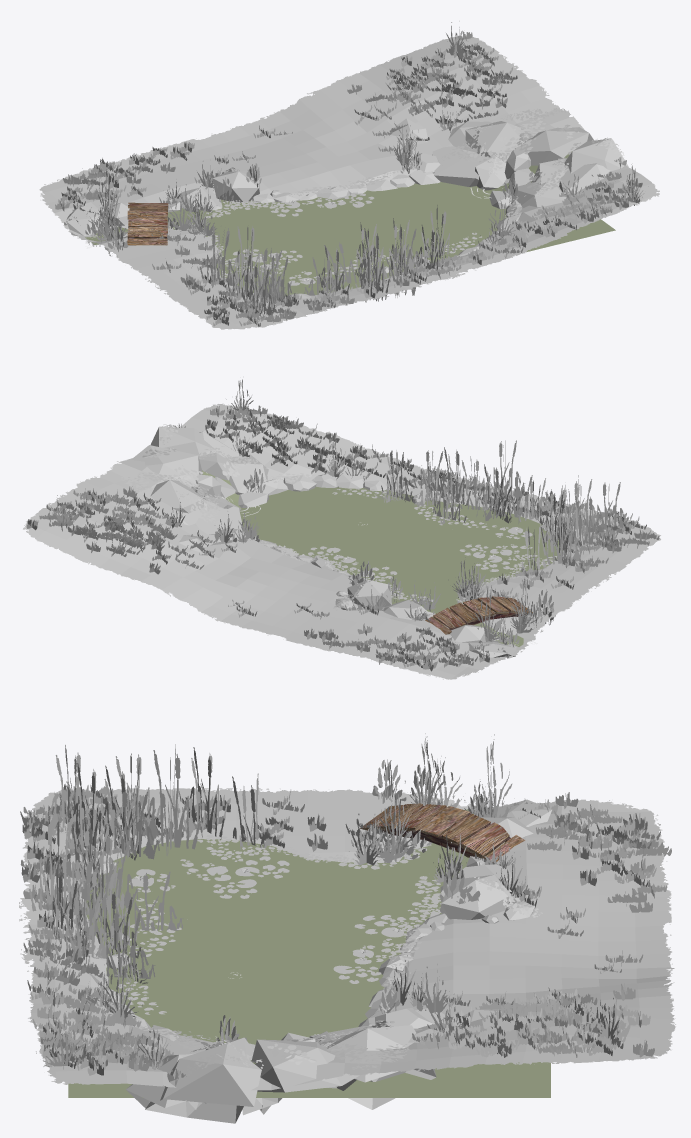
The model's file is 2020_08_05 pond-3-clean.fbx.
The picture shows the model from 3 angles, top to bottom: view 1: azimuth 30°, elevation 25°; view 2: azimuth 150°, elevation 25°; view 3: azimuth 270°, elevation 25°; orthographic projection. The views are drawn at different scales.
Visible parts, largest first — view 1: Plane.002, Plane.003, Icosphere.004, Icosphere.005, Icosphere.010, Icosphere.012, Icosphere.018, Icosphere.001, Icosphere.011, Plane.056, Icosphere, Icosphere.022 (+14 smaller); view 2: Plane.002, Plane.003, Icosphere.004, Icosphere.012, Icosphere.010, Icosphere.005, Icosphere.018, Icosphere.001, Plane.084, Plane.037, Plane.085, Plane.059 (+12 smaller); view 3: Plane.002, Plane.003, Icosphere.012, Icosphere.004, Icosphere.010, Icosphere.018, Plane.084, Plane.056, Plane.085, Plane.083, Plane.090, Plane.059 (+29 smaller).
Part boxes in pixels (x1,y1,x2,y2): Plane.002: [39, 34, 659, 329]; Plane.003: [167, 182, 615, 296]; Icosphere.004: [511, 127, 593, 165]; Icosphere.005: [432, 146, 497, 186]; Icosphere.010: [465, 121, 524, 162]; Icosphere.012: [564, 138, 629, 173]; Icosphere.018: [212, 171, 259, 202]; Icosphere.001: [511, 182, 567, 208]; Icosphere.011: [559, 163, 611, 193]; Plane.056: [357, 228, 389, 302]; Icosphere: [475, 156, 506, 190]; Icosphere.022: [66, 206, 104, 236]; Plane.002: [23, 403, 660, 679]; Plane.003: [240, 486, 562, 619]; Icosphere.004: [131, 445, 202, 491]; Icosphere.012: [150, 426, 214, 456]; Icosphere.010: [150, 480, 203, 513]; Icosphere.005: [195, 498, 242, 534]; Icosphere.018: [347, 580, 391, 607]; Icosphere.001: [229, 454, 268, 494]; Plane.084: [540, 485, 569, 555]; Plane.037: [437, 447, 470, 506]; Plane.085: [545, 511, 583, 567]; Plane.059: [381, 450, 412, 502]; Plane.002: [19, 788, 675, 1090]; Plane.003: [68, 837, 550, 1097]; Icosphere.012: [145, 1043, 261, 1123]; Icosphere.004: [251, 1039, 359, 1092]; Icosphere.010: [327, 1025, 436, 1109]; Icosphere.018: [440, 874, 511, 919]; Plane.084: [142, 744, 200, 855]; Plane.056: [28, 810, 84, 918]; Plane.085: [182, 747, 228, 839]; Plane.083: [103, 782, 159, 864]; Plane.090: [44, 745, 99, 830]; Plane.059: [94, 900, 155, 986].
Size of the model in its own units: 1821 by 439 by 1462.
